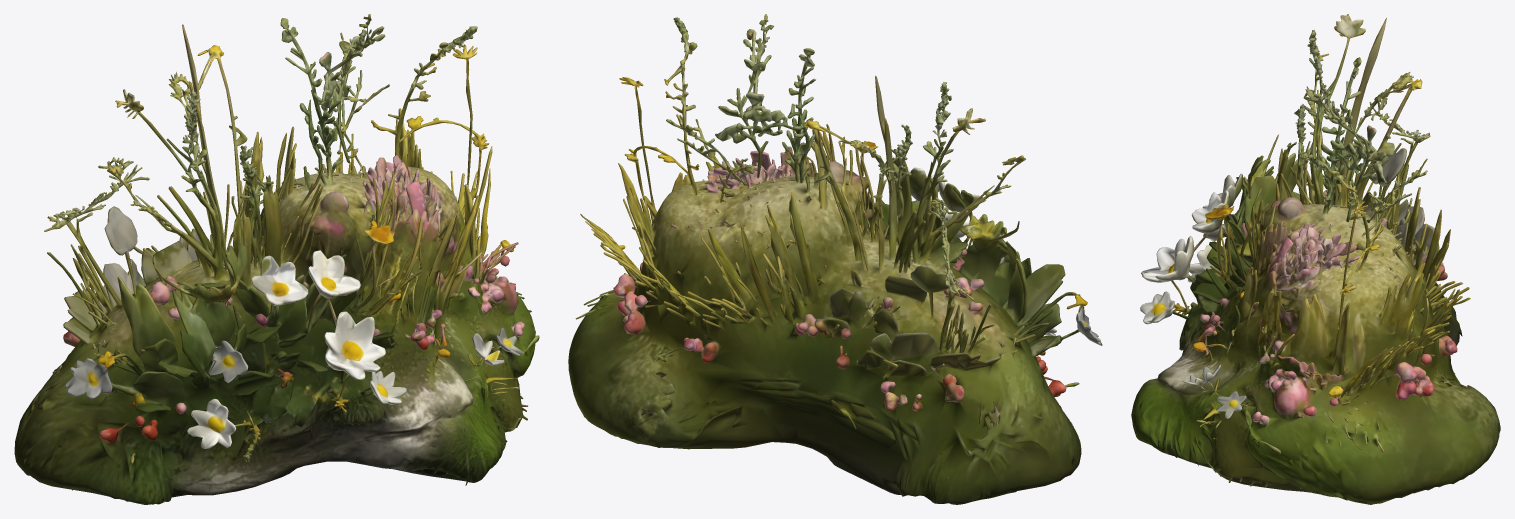
Rendered from peach_bush.glb.
3 views of the same model, side by side, from view 1: azimuth 30°, elevation 25°; view 2: azimuth 150°, elevation 25°; view 3: azimuth 270°, elevation 25° (orthographic). The views are drawn at different scales.
Visible parts, largest first — view 1: tripo_node_cc27df44-8fca-4270-9e73-02bb174775cc; view 2: tripo_node_cc27df44-8fca-4270-9e73-02bb174775cc; view 3: tripo_node_cc27df44-8fca-4270-9e73-02bb174775cc.
Part boxes in pixels (<box>): tripo_node_cc27df44-8fca-4270-9e73-02bb174775cc: <box>14,14,539,504</box>; tripo_node_cc27df44-8fca-4270-9e73-02bb174775cc: <box>568,14,1102,504</box>; tripo_node_cc27df44-8fca-4270-9e73-02bb174775cc: <box>1131,14,1500,504</box>.
Bounding box in the file's own units: 0.9775 × 0.7398 × 0.6885.
1 material, 1 textured.
